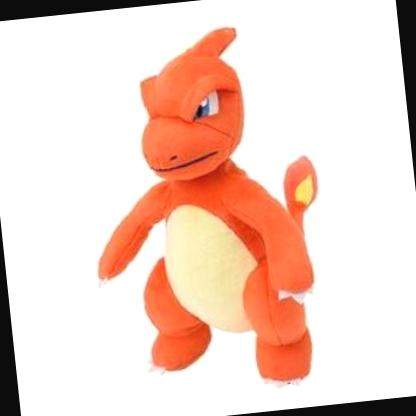Glutexo: (4, 22, 415, 415)
